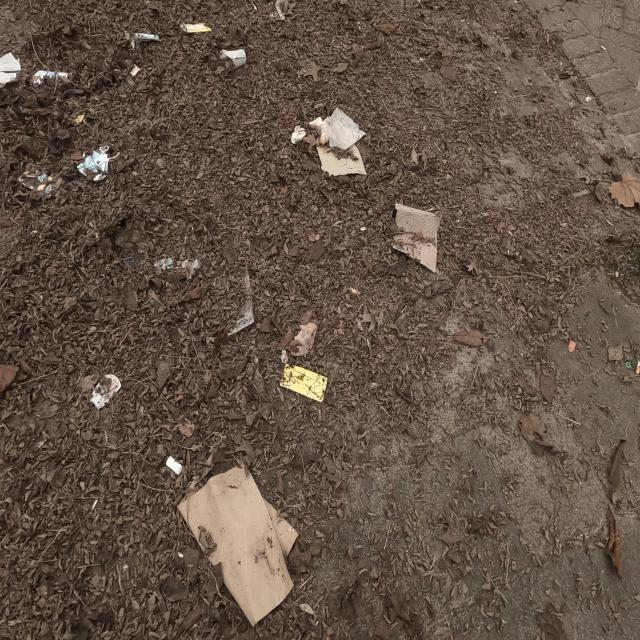Cup: (217, 46, 248, 69)
Mask: (80, 144, 112, 182)
